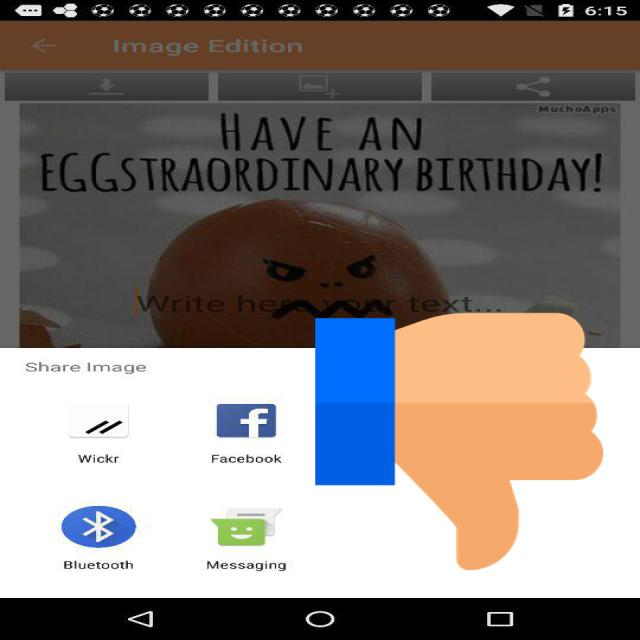obstruction: (316, 306, 604, 576)
